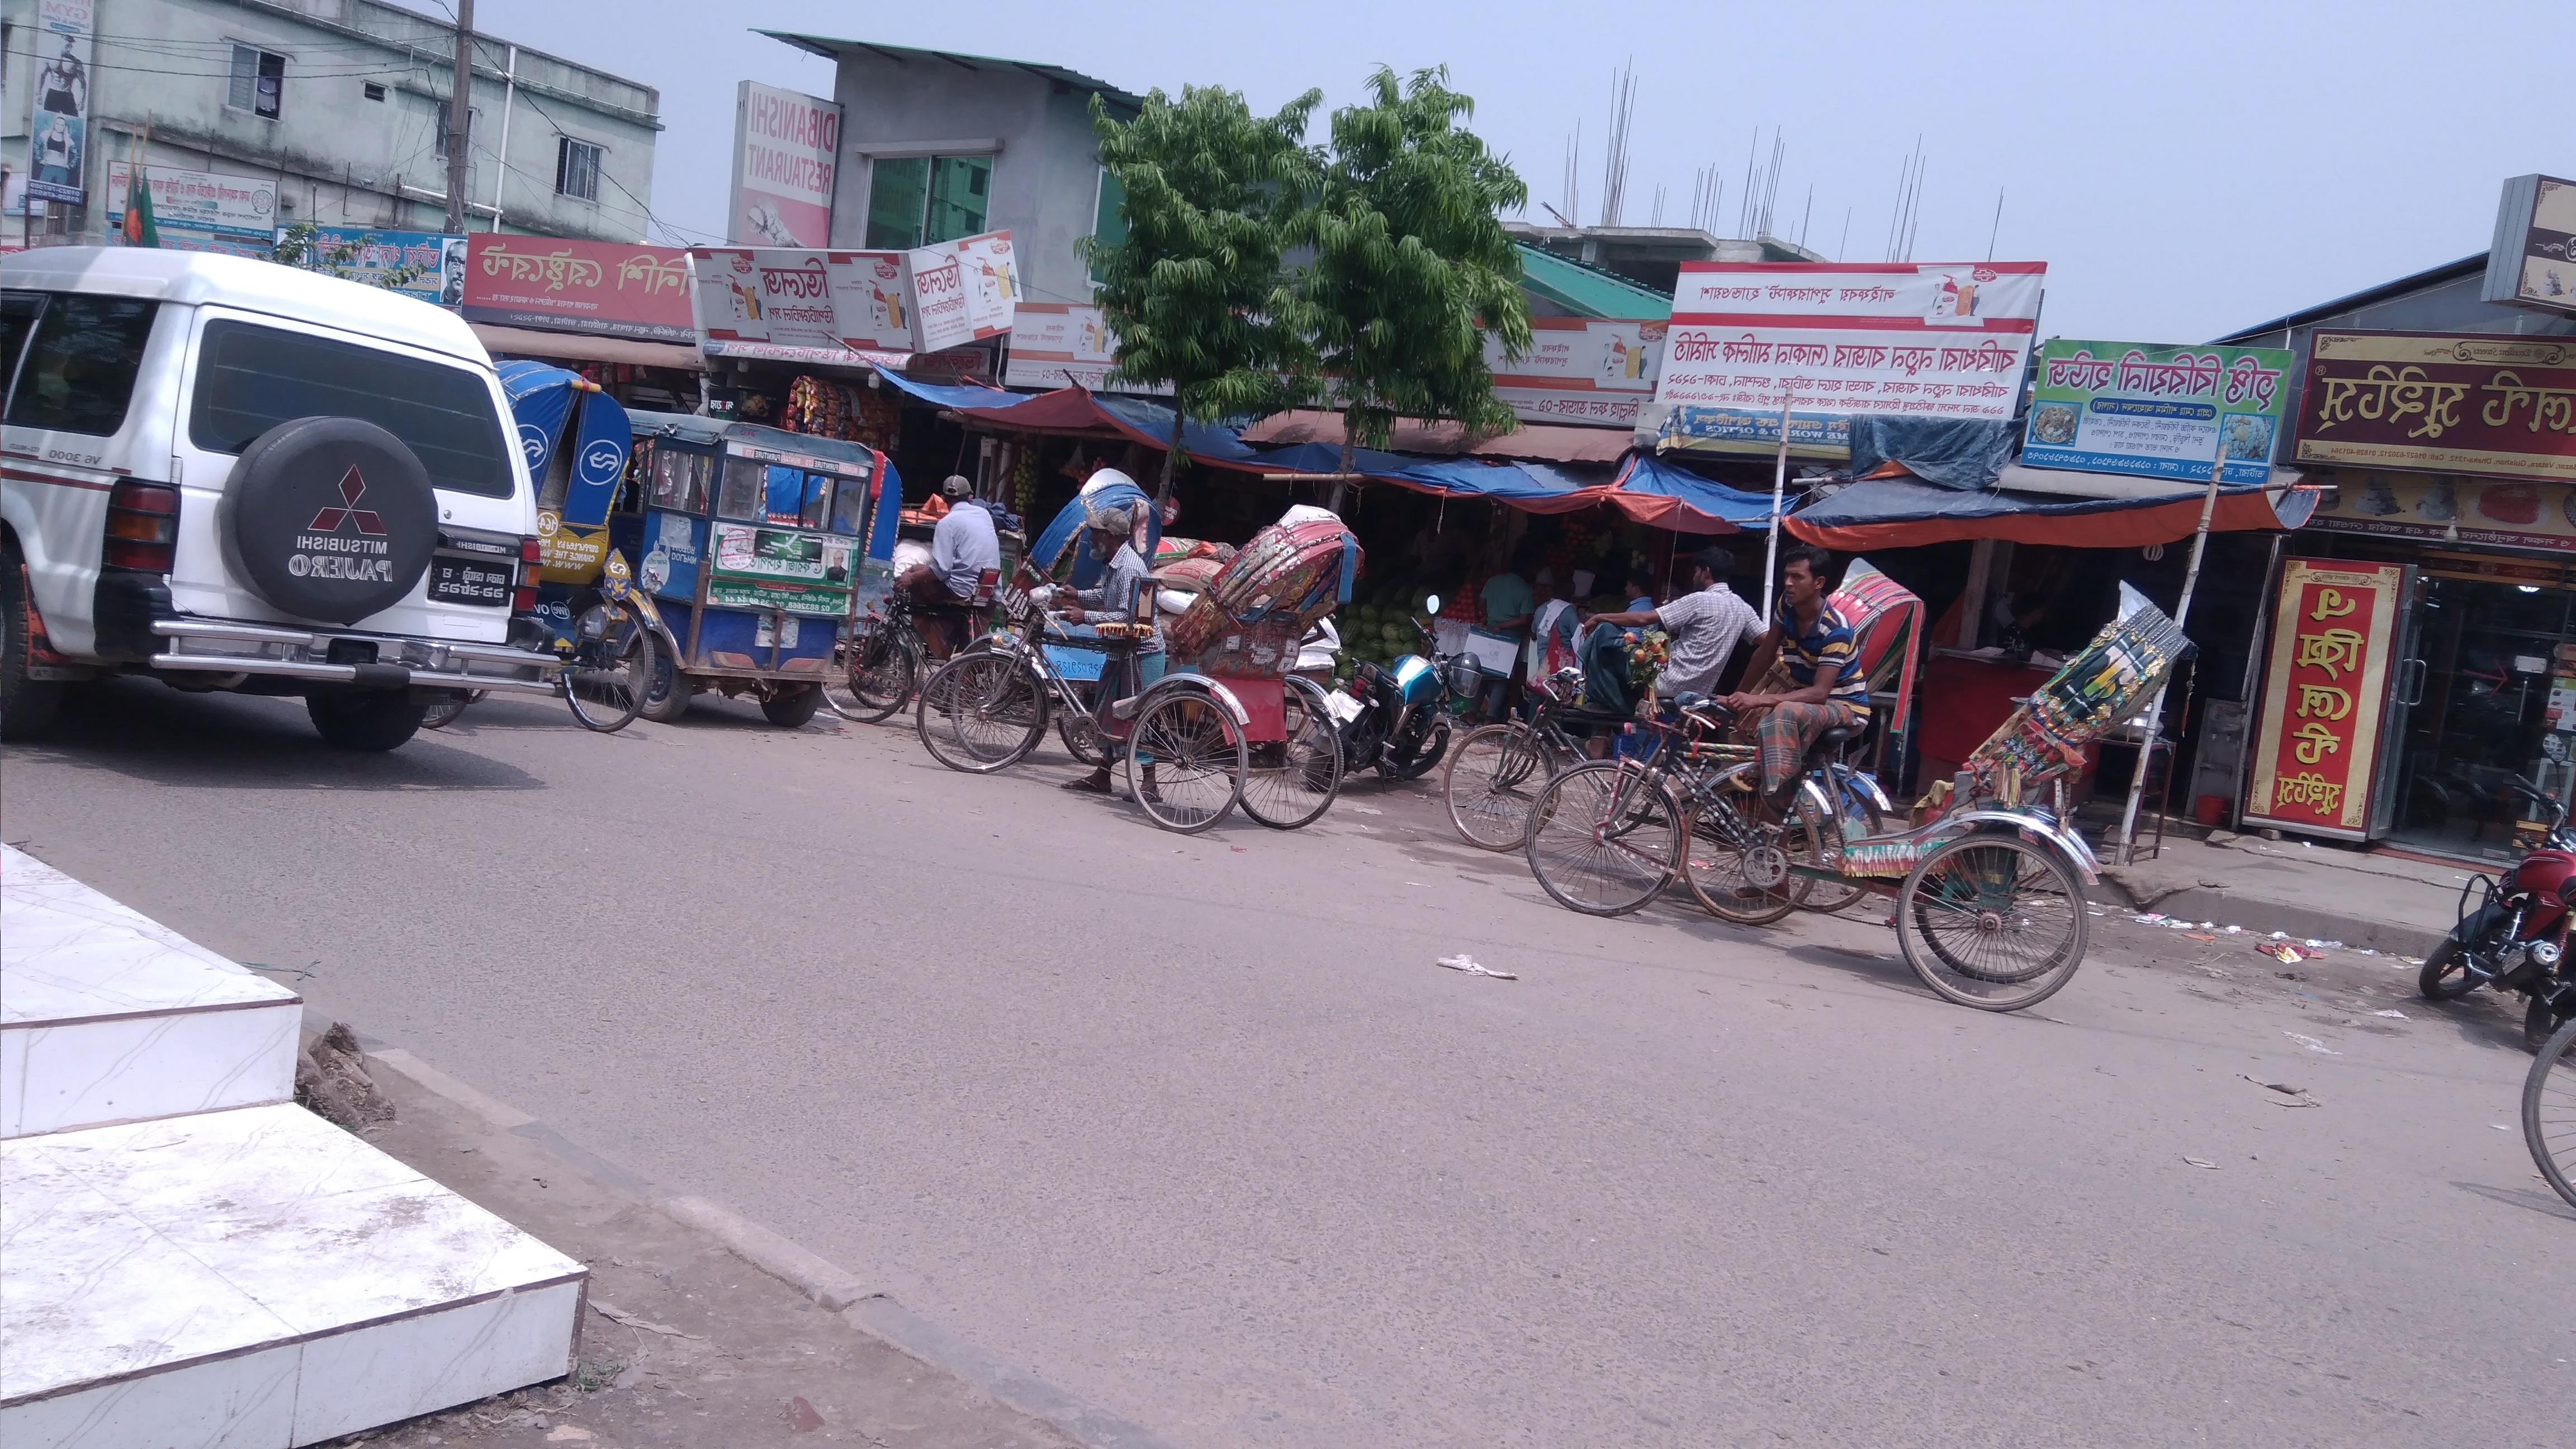Rickshaw: (1628, 524, 2100, 1035), (1518, 474, 1916, 961), (996, 425, 1366, 886), (895, 432, 1122, 800), (469, 341, 676, 731)
